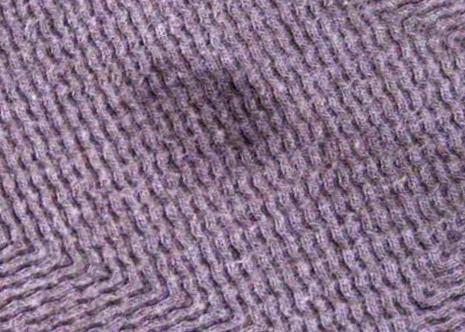stain: (133, 60, 294, 175)
